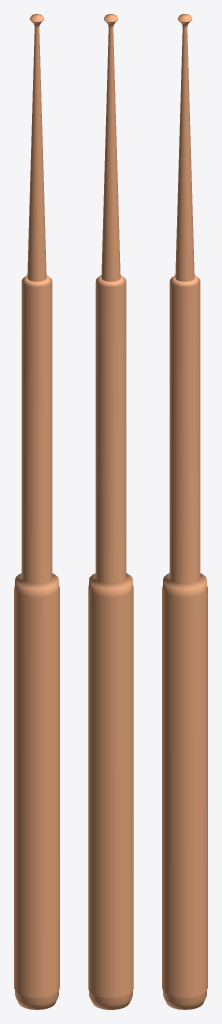
File: Baton01.fbx
The picture shows the model from 3 angles, left to right: view 1: azimuth 90°, elevation 25°; view 2: azimuth 150°, elevation 25°; view 3: azimuth 270°, elevation 25°; orthographic projection.
Parts seen in each view (by area): view 1: Batton_Batton; view 2: Batton_Batton; view 3: Batton_Batton.
Boxes of the visible parts, bbox=[...] form: Batton_Batton: bbox=[14, 14, 59, 1009]; Batton_Batton: bbox=[88, 14, 133, 1009]; Batton_Batton: bbox=[162, 14, 207, 1009].
Bounding box in the file's own units: 2.83 × 67.35 × 2.83.
1 material, 1 textured.
